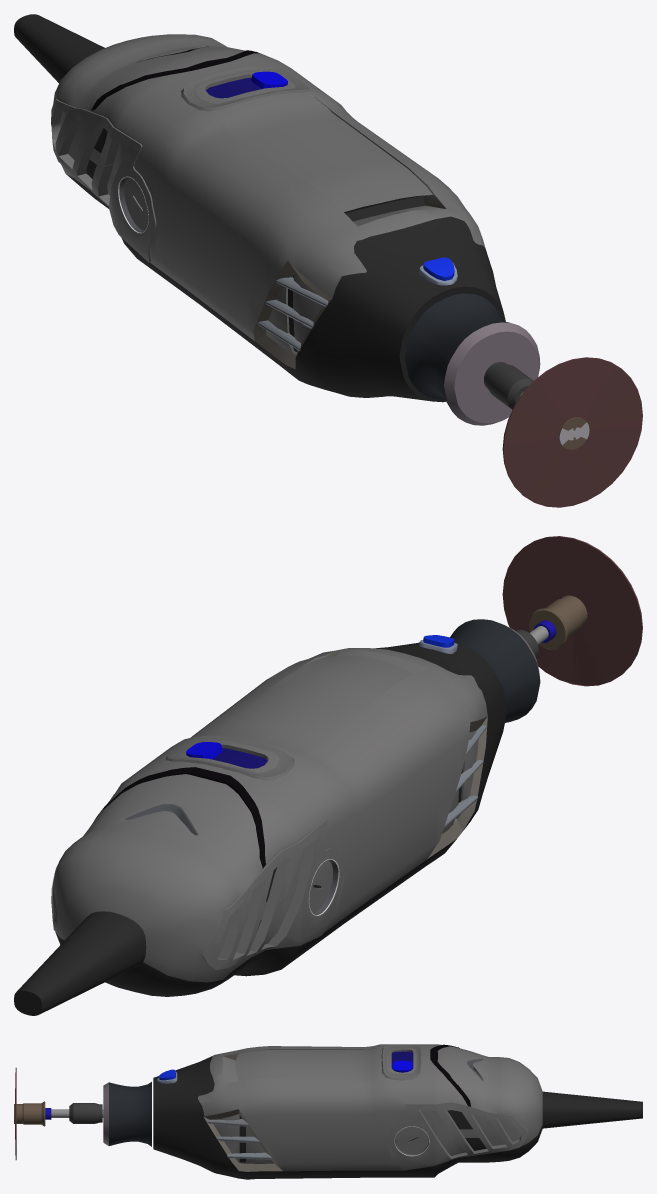
The model's file is Dremel3000.fbx.
3 renders of one model, top to bottom at view 1: azimuth 30°, elevation 25°; view 2: azimuth 150°, elevation 25°; view 3: azimuth 270°, elevation 25°, orthographic. The views are drawn at different scales.
Parts seen in each view (by area): view 1: Korpus, Disk, Patron, Okantovka, Canga, Korpus.003; view 2: Korpus, Disk, Patron, ToolsInsert, Okantovka, Korpus.003; view 3: Korpus, Patron, ToolsInsert, Canga, Okantovka, Korpus.003, VentGran2, VentGran3, VentGran0, ButtonSpeed.
Boxes of the visible parts, bbox=[...] form: Korpus: bbox=[14, 14, 505, 402]; Disk: bbox=[502, 357, 642, 507]; Patron: bbox=[405, 293, 540, 425]; Okantovka: bbox=[181, 67, 309, 111]; Canga: bbox=[484, 362, 533, 409]; Korpus.003: bbox=[91, 50, 261, 110]; Korpus: bbox=[14, 642, 507, 1015]; Disk: bbox=[502, 536, 642, 686]; Patron: bbox=[450, 619, 540, 722]; ToolsInsert: bbox=[529, 595, 587, 649]; Okantovka: bbox=[166, 736, 294, 780]; Korpus.003: bbox=[94, 767, 265, 868]; Korpus: bbox=[153, 1044, 642, 1179]; Patron: bbox=[103, 1082, 151, 1146]; ToolsInsert: bbox=[14, 1101, 51, 1126]; Canga: bbox=[69, 1103, 102, 1123]; Okantovka: bbox=[381, 1045, 421, 1080]; Korpus.003: bbox=[430, 1044, 470, 1106]; VentGran2: bbox=[227, 1152, 272, 1159]; VentGran3: bbox=[217, 1136, 260, 1143]; VentGran0: bbox=[207, 1119, 249, 1126]; ButtonSpeed: bbox=[392, 1060, 412, 1072].
Bounding box in the file's own units: 276 × 274 × 1358.
